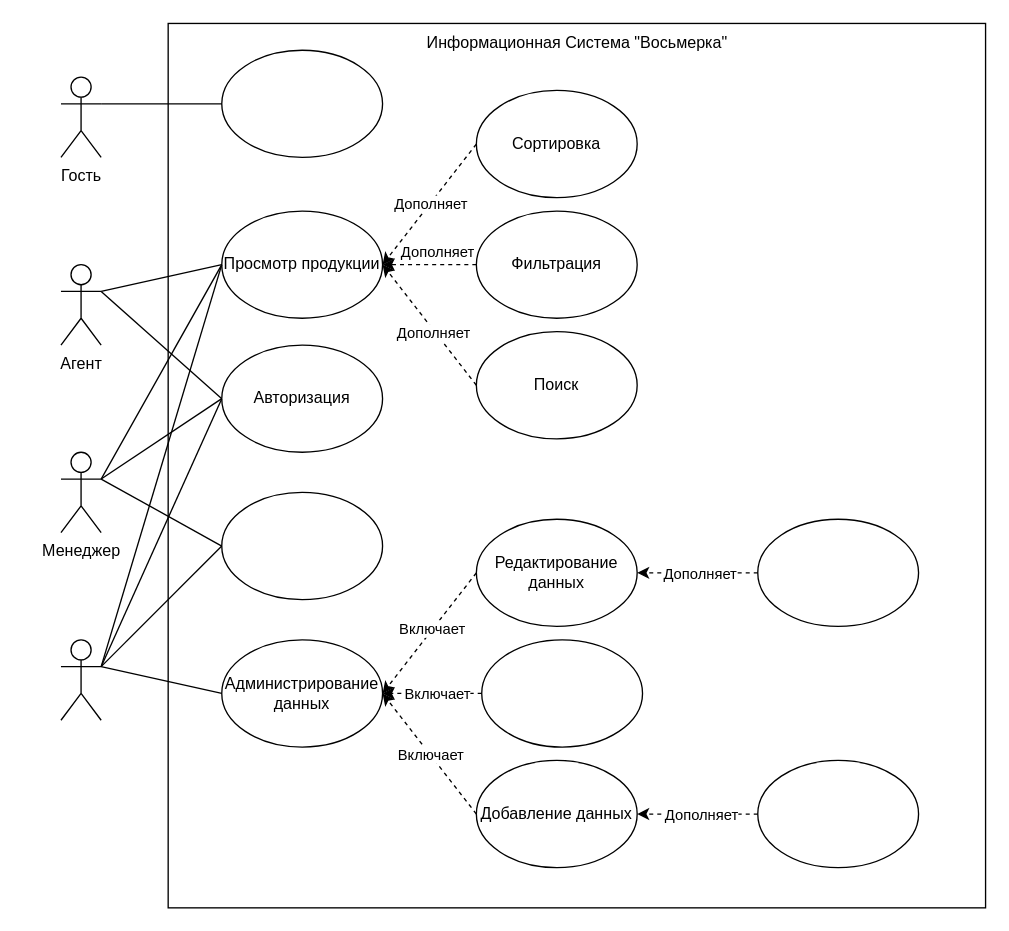
This 1009x931 diagram has some shape labels left out. Here are the shapes that lost their labels. From the top down, the centre of each, then its label:
At [301,103]: "Просмотр продукции с ограниченными функциями".
At [301,545]: "Просмотр материалов".
At [837,572]: "Замена фотографии".
At [80,679]: "Администратор".
At [561,693]: "Удаление данных".
At [837,813]: "Загрузка фотографии".
